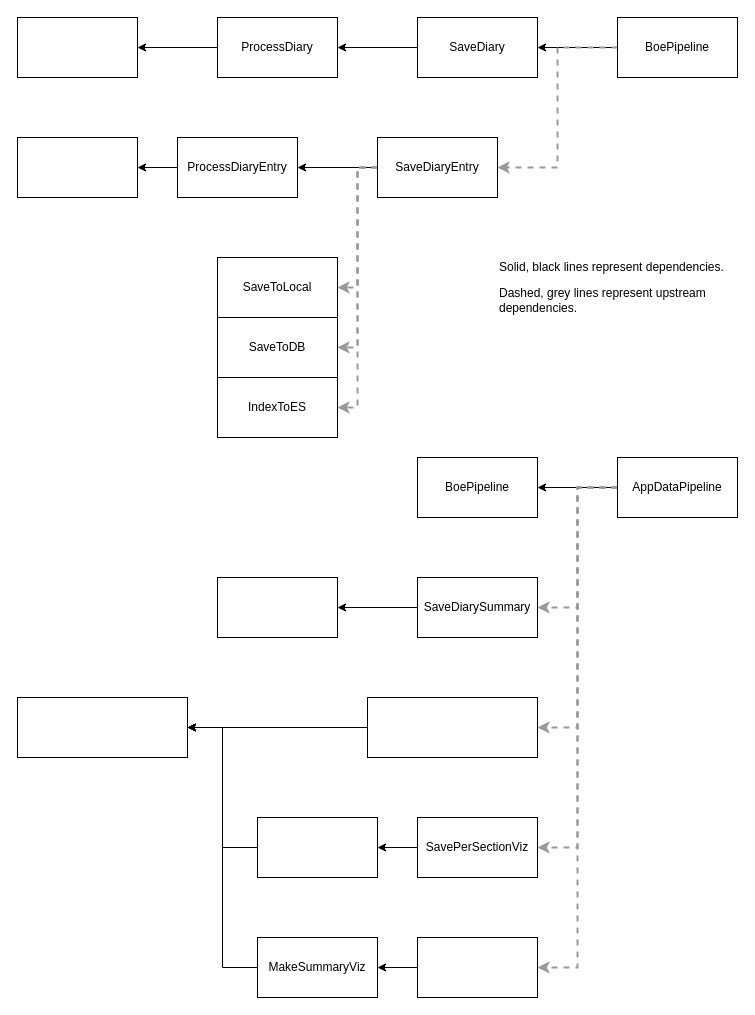
This 755x1015 diagram has some shape labels left out. Each missing label, with the box of its shape:
FetchDiary: (16, 16, 138, 78)
FetchDiaryEntry: (16, 136, 138, 198)
MakeDiaryEntriesAggregation: (16, 696, 188, 758)
MakeDiarySummary: (216, 576, 338, 638)
MakePerSectionViz: (256, 816, 378, 878)
SaveDiaryEntriesAggregation: (366, 696, 538, 758)
SaveSummaryViz: (416, 936, 538, 998)
